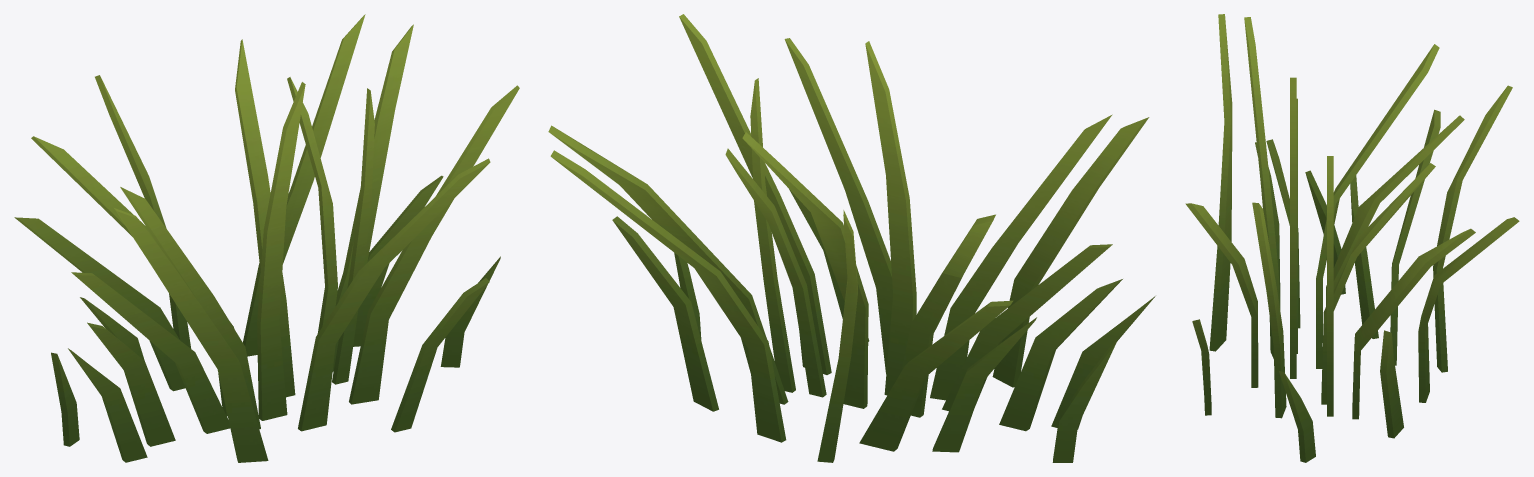
Rendered from Grass_Large_Extruded.glb.
The picture shows the model from 3 angles, left to right: view 1: azimuth 30°, elevation 25°; view 2: azimuth 150°, elevation 25°; view 3: azimuth 270°, elevation 25°; orthographic projection. The views are drawn at different scales.
Visible parts, largest first — view 1: Grass_Large_Extruded; view 2: Grass_Large_Extruded; view 3: Grass_Large_Extruded.
Boxes of the visible parts, bbox=[...] form: Grass_Large_Extruded: bbox=[14, 14, 519, 462]; Grass_Large_Extruded: bbox=[548, 14, 1155, 462]; Grass_Large_Extruded: bbox=[1185, 14, 1519, 462].
Size of the model in its own units: 0.7447 by 0.5089 by 0.4973.
Materials: 1 (1 with a texture image).
